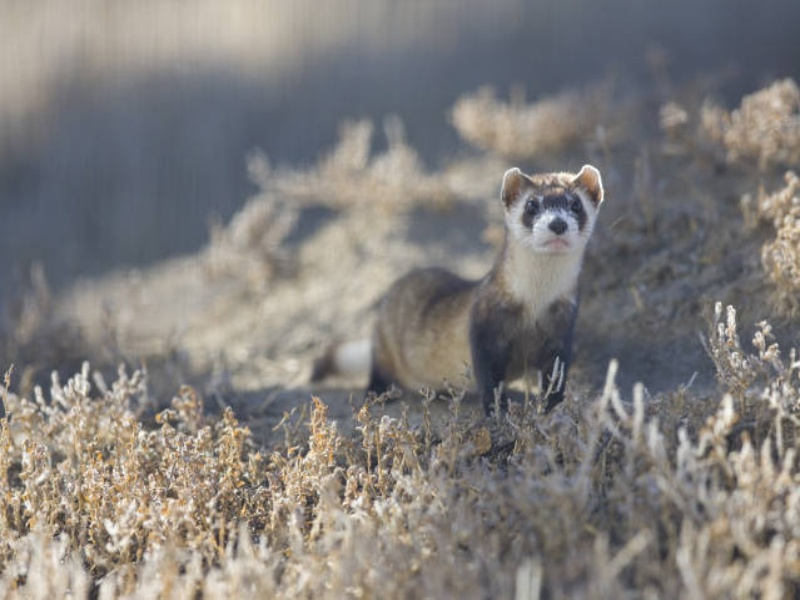minkish: (345, 162, 613, 414)
